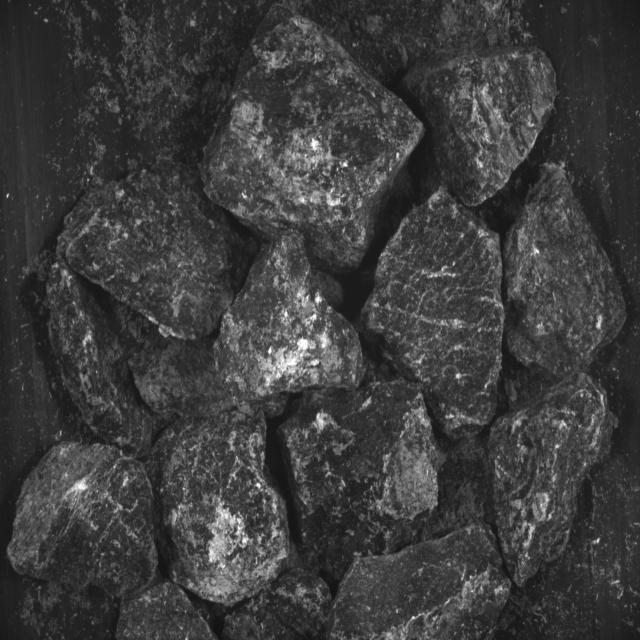Stones: (204, 7, 425, 273), (362, 189, 505, 438), (59, 161, 252, 341), (279, 381, 439, 583), (490, 374, 614, 586), (505, 164, 627, 379), (215, 234, 364, 404), (161, 412, 290, 607), (404, 48, 557, 207), (9, 444, 159, 597), (329, 526, 511, 640), (49, 262, 154, 458), (224, 569, 332, 640), (117, 582, 217, 640)
